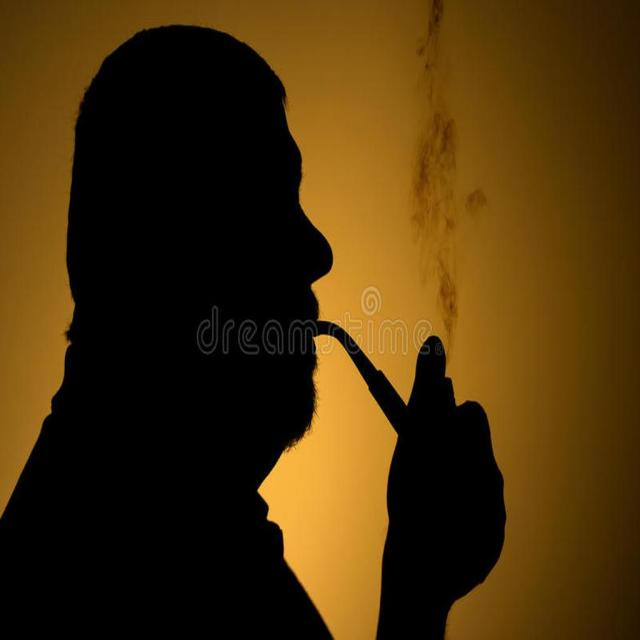smoking: (65, 19, 508, 577)
